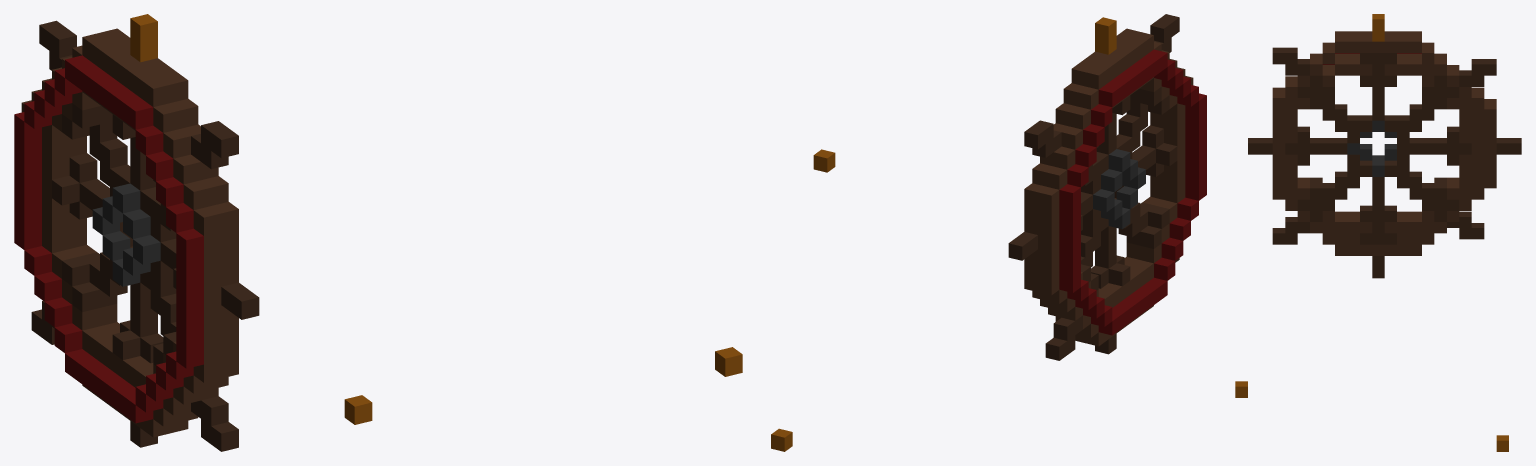
File: enemyship-0.obj
3 views of the same model, side by side, from view 1: azimuth 30°, elevation 25°; view 2: azimuth 150°, elevation 25°; view 3: azimuth 270°, elevation 25° (orthographic). The views are drawn at different scales.
Size of the model in its own units: 3 by 3 by 2.3.
1 material, 1 textured.
